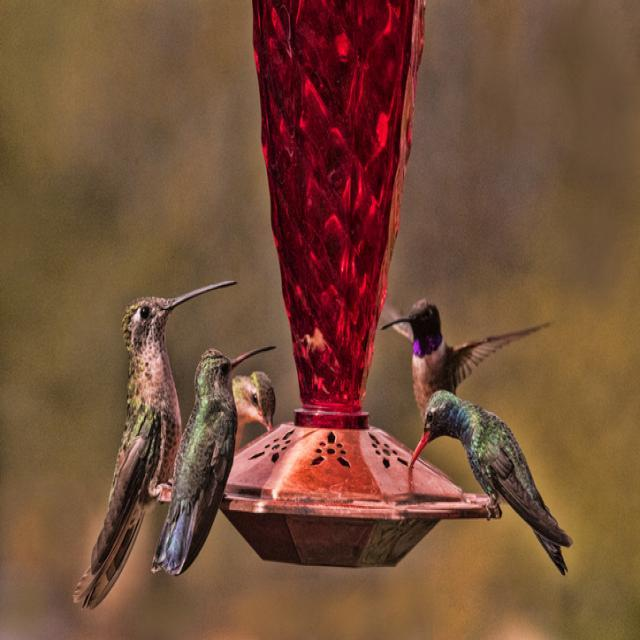bird: (55, 244, 242, 580), (126, 308, 274, 614), (346, 224, 558, 424), (388, 375, 584, 583), (240, 348, 302, 454)
